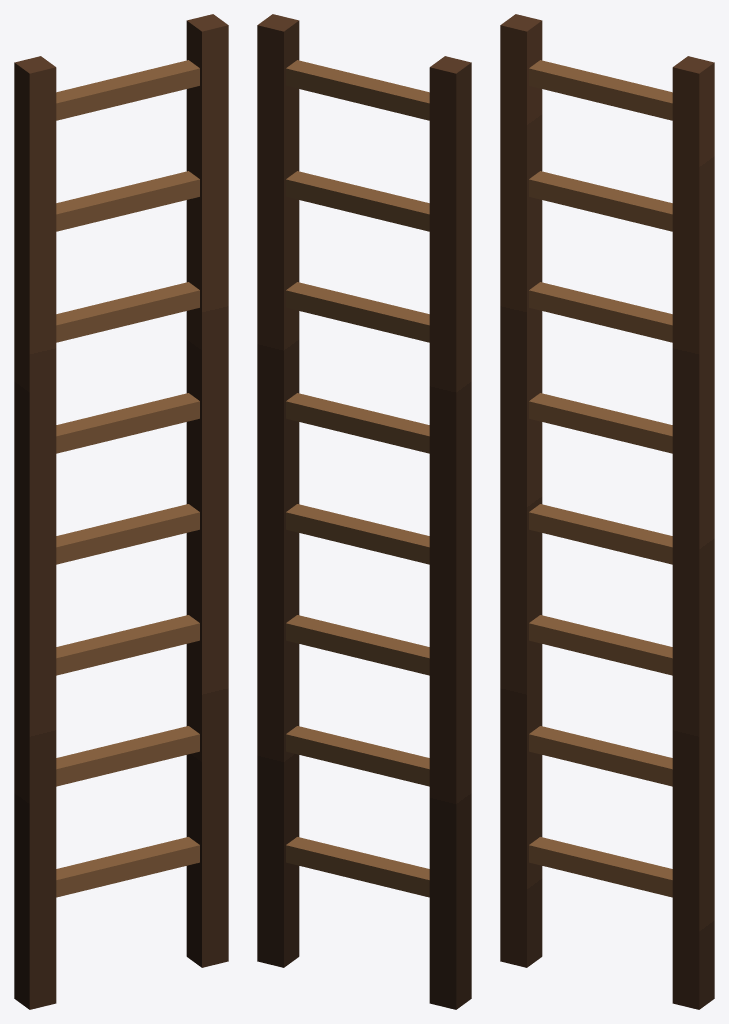
Rendered from ladder_wood.glb.
3 renders of one model, left to right at view 1: azimuth 30°, elevation 25°; view 2: azimuth 150°, elevation 25°; view 3: azimuth 330°, elevation 25°, orthographic.
Bounding box in the file's own units: 0.6 × 2.7 × 0.08.
Materials: 1 (1 with a texture image).
